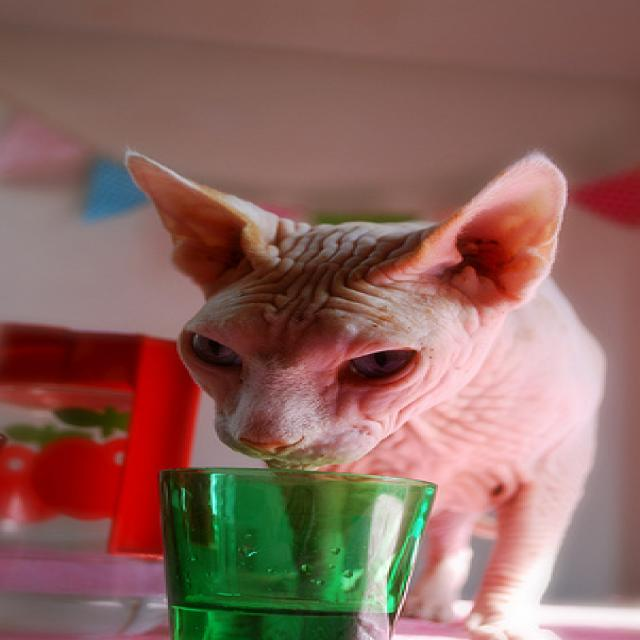Sphynx: (117, 139, 612, 640)
